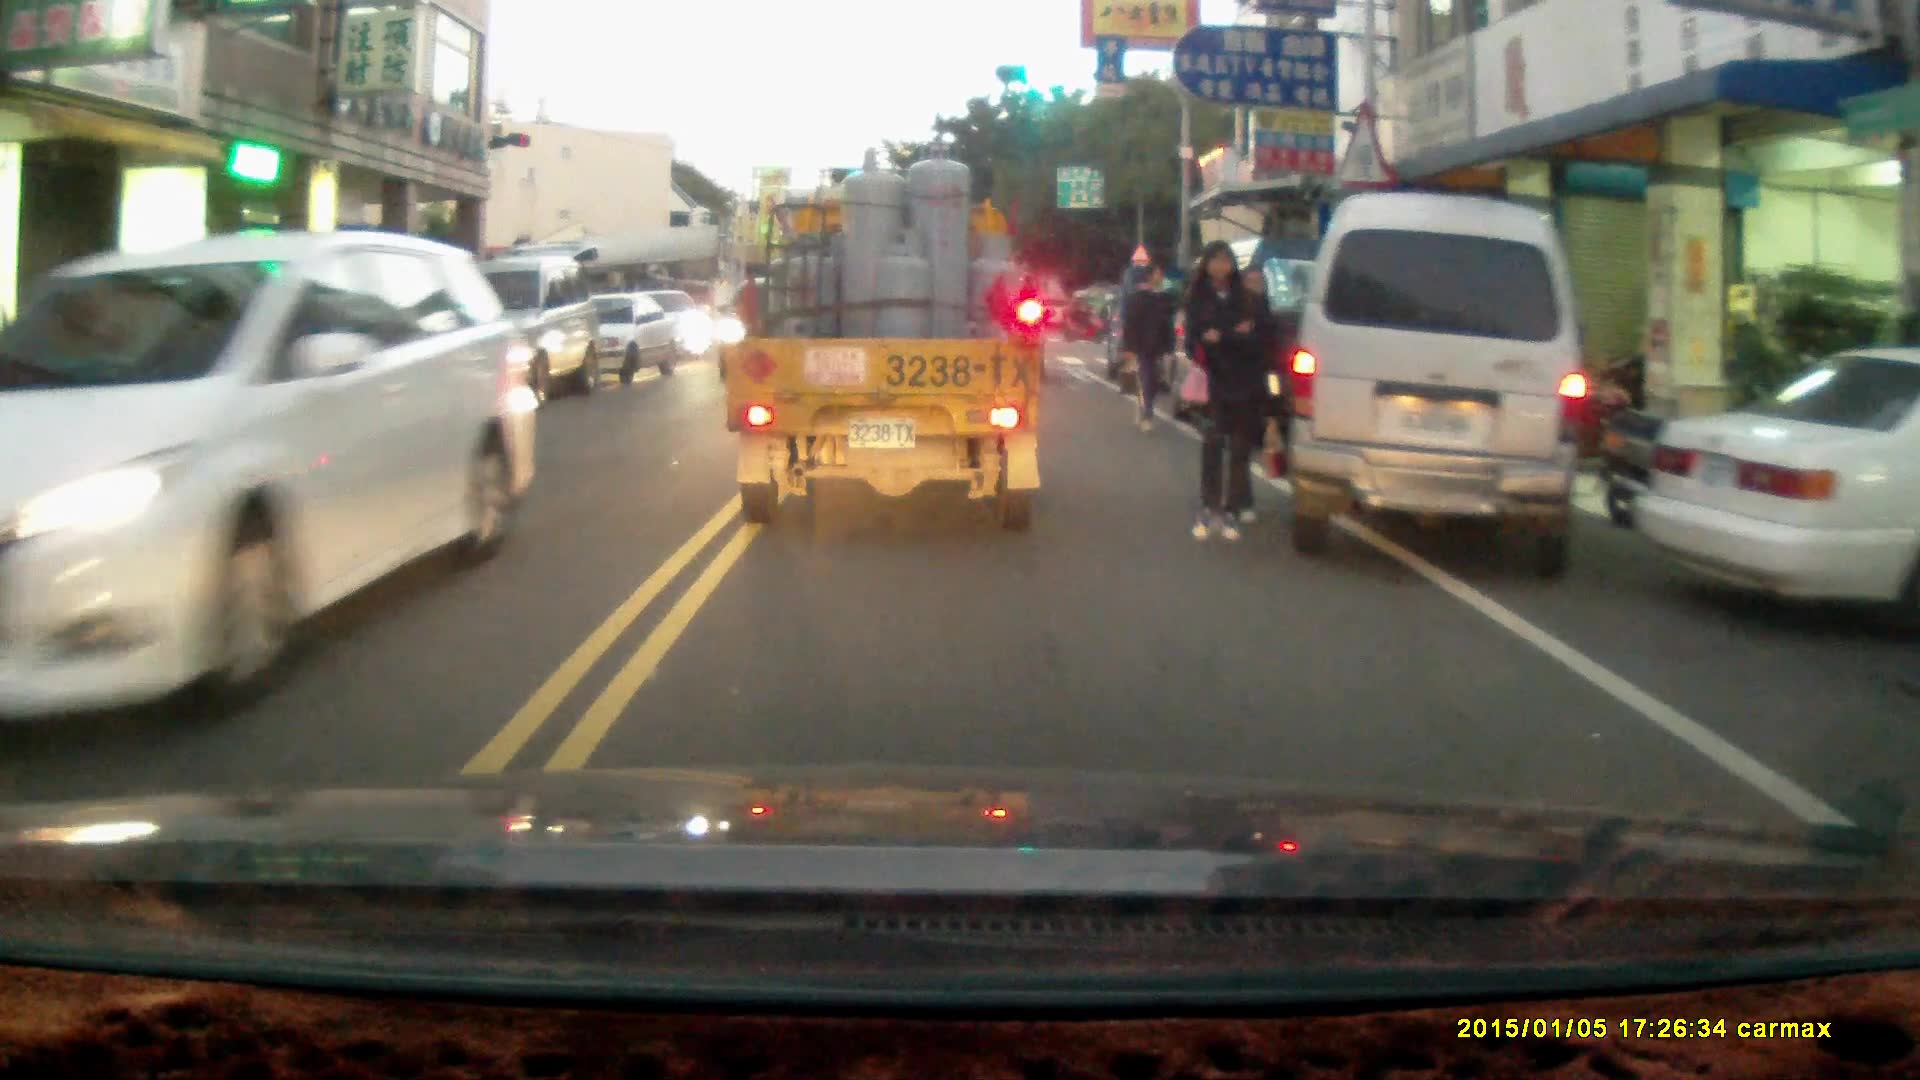pedestrian: (1181, 238, 1271, 546), (1122, 260, 1177, 431)
rider: (1064, 290, 1107, 343)
vehicle: (1, 228, 558, 689), (718, 138, 1051, 532), (1279, 191, 1591, 579), (1635, 350, 1920, 625), (388, 248, 604, 418), (535, 289, 683, 388)
